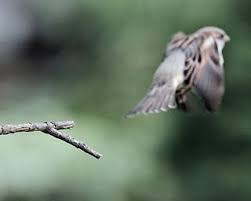hsparrow: (116, 22, 232, 123)
